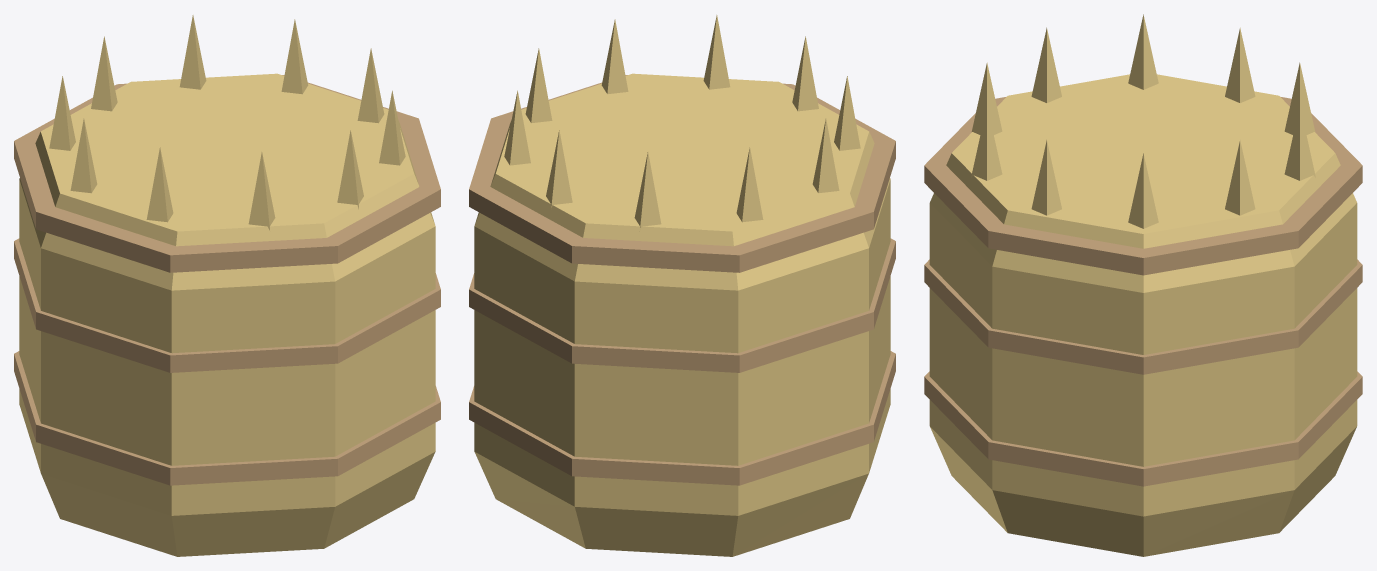
Rendered from town_hay_bale.glb.
The picture shows the model from 3 angles, left to right: view 1: azimuth 30°, elevation 25°; view 2: azimuth 150°, elevation 25°; view 3: azimuth 270°, elevation 25°; orthographic projection.
Visible parts, largest first — view 1: world; view 2: world; view 3: world.
Boxes of the visible parts, <box> form: world: <box>14,15,440,556</box>; world: <box>469,15,895,556</box>; world: <box>924,14,1362,556</box>.
Bounding box in the file's own units: 2 × 1.98 × 2.
